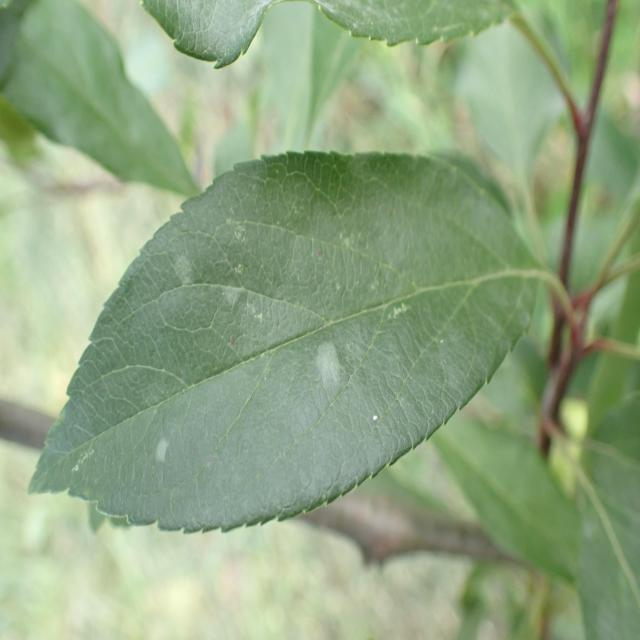Powdery_mildew: (76, 156, 542, 501), (163, 0, 445, 67)
